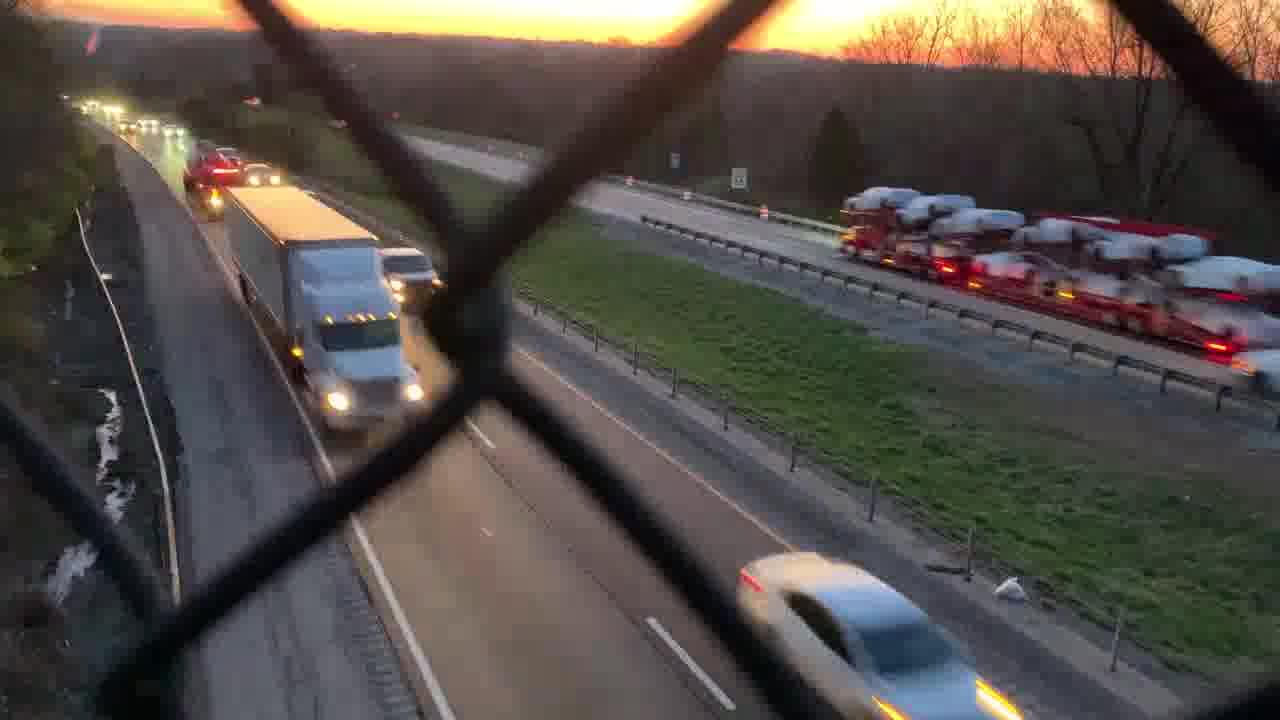heavyTruck: (822, 178, 1280, 387), (219, 182, 437, 440)
smallCar: (729, 543, 1034, 720)
